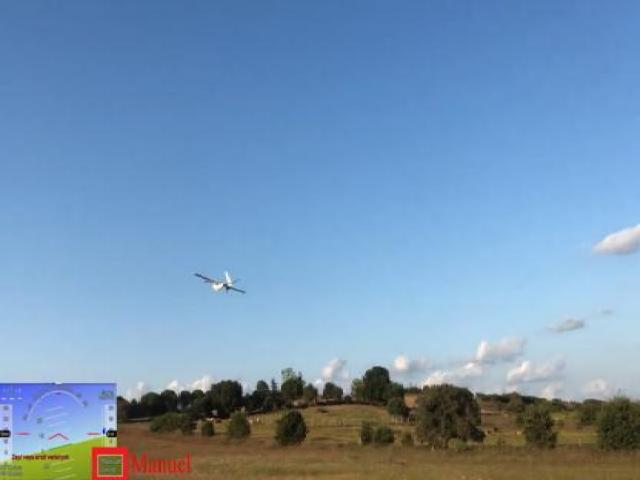uav: (193, 266, 247, 295)
